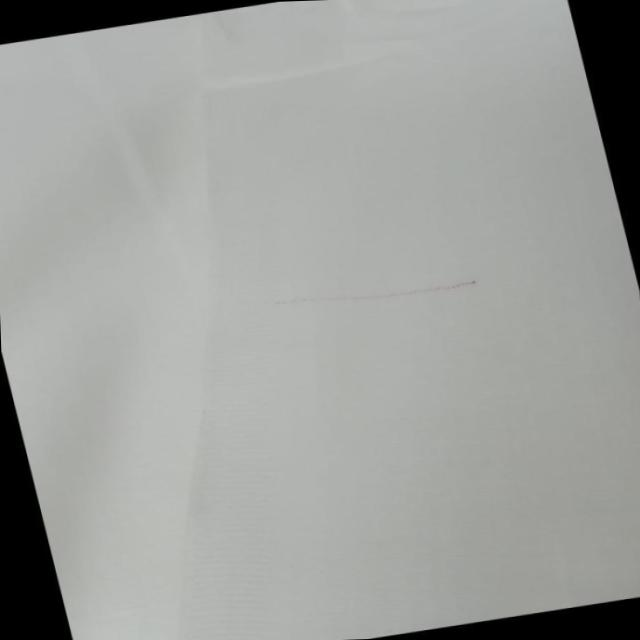contamination: (257, 260, 497, 331)
